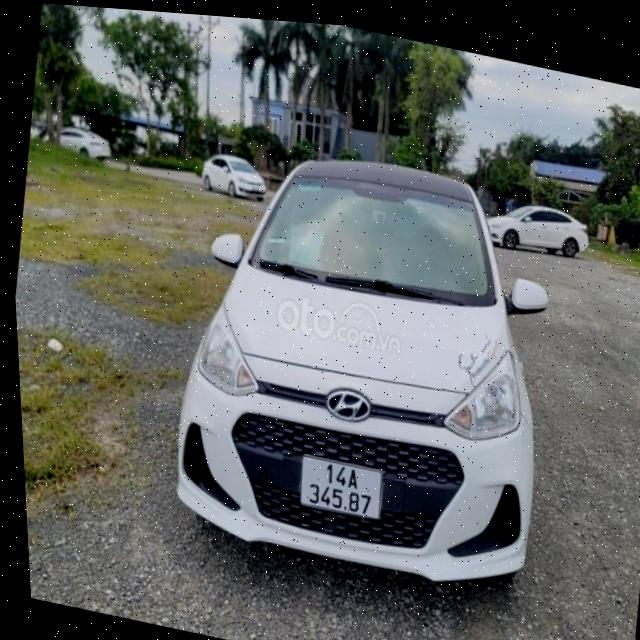car: (155, 120, 580, 608), (483, 192, 595, 270), (194, 142, 279, 210)
plate: (290, 448, 391, 526)
